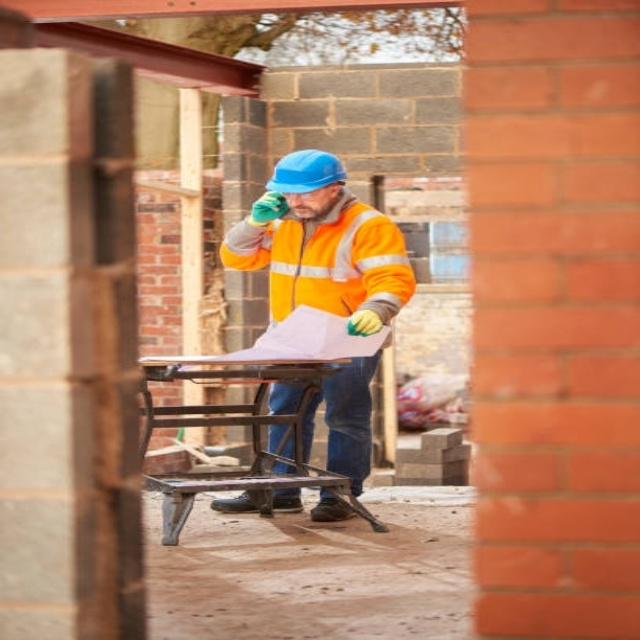Gafas: (279, 184, 335, 203)
Guantes: (250, 191, 288, 225), (346, 308, 384, 336)
Sin_mascara: (292, 205, 316, 213)
